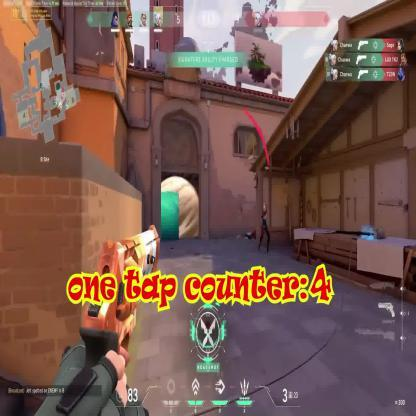enemy: (258, 204, 270, 252)
enemy_head: (262, 204, 267, 214)
